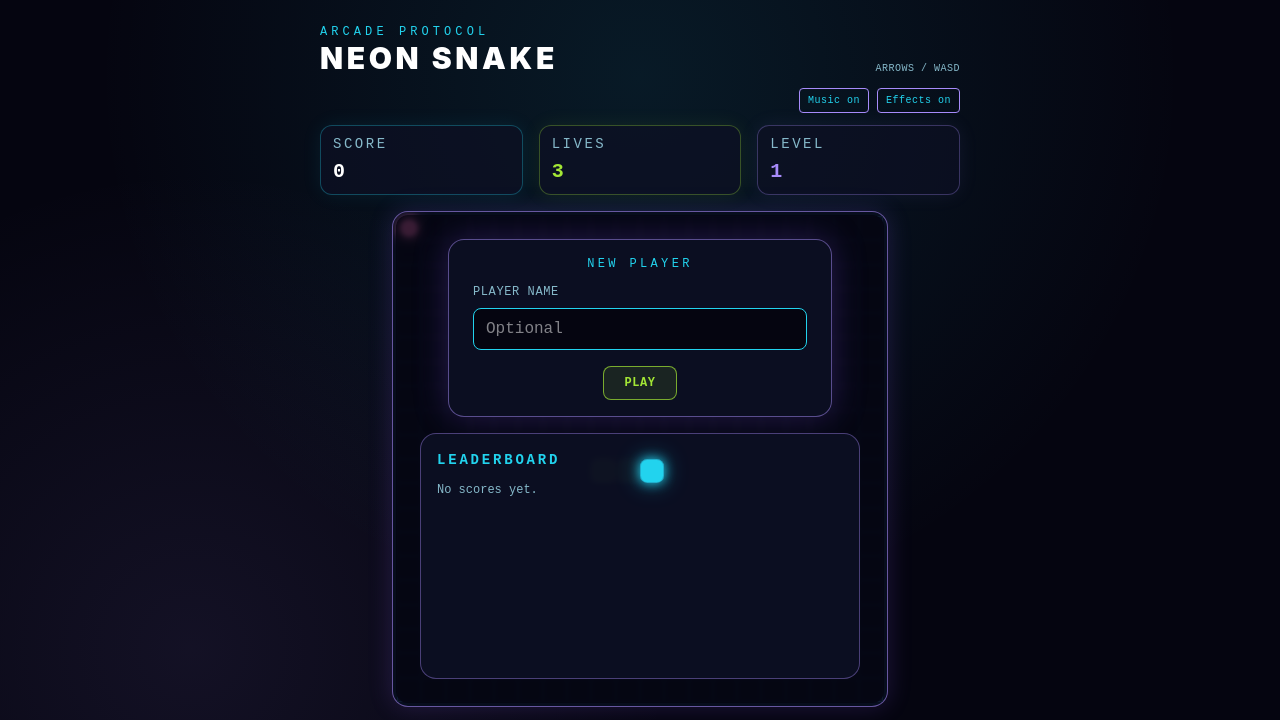
Test: Game › render › renders the leaderboard in the board overlay before play
Expected: the text "No scores yet." is shown, 437,483 -> 538,497
Click the button "Play": (640, 383) 603,366 -> 677,400
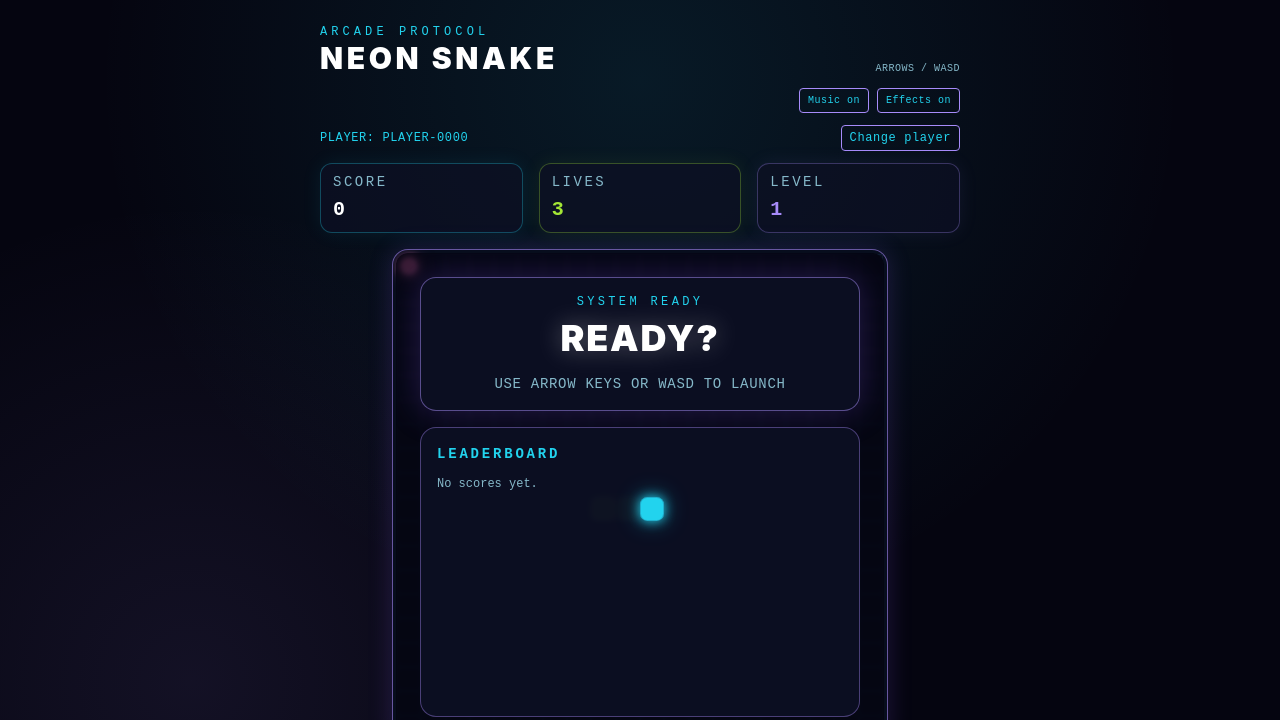
Expected: the heading "Ready?" is shown, 560,316 -> 720,360
Press ArrowRight
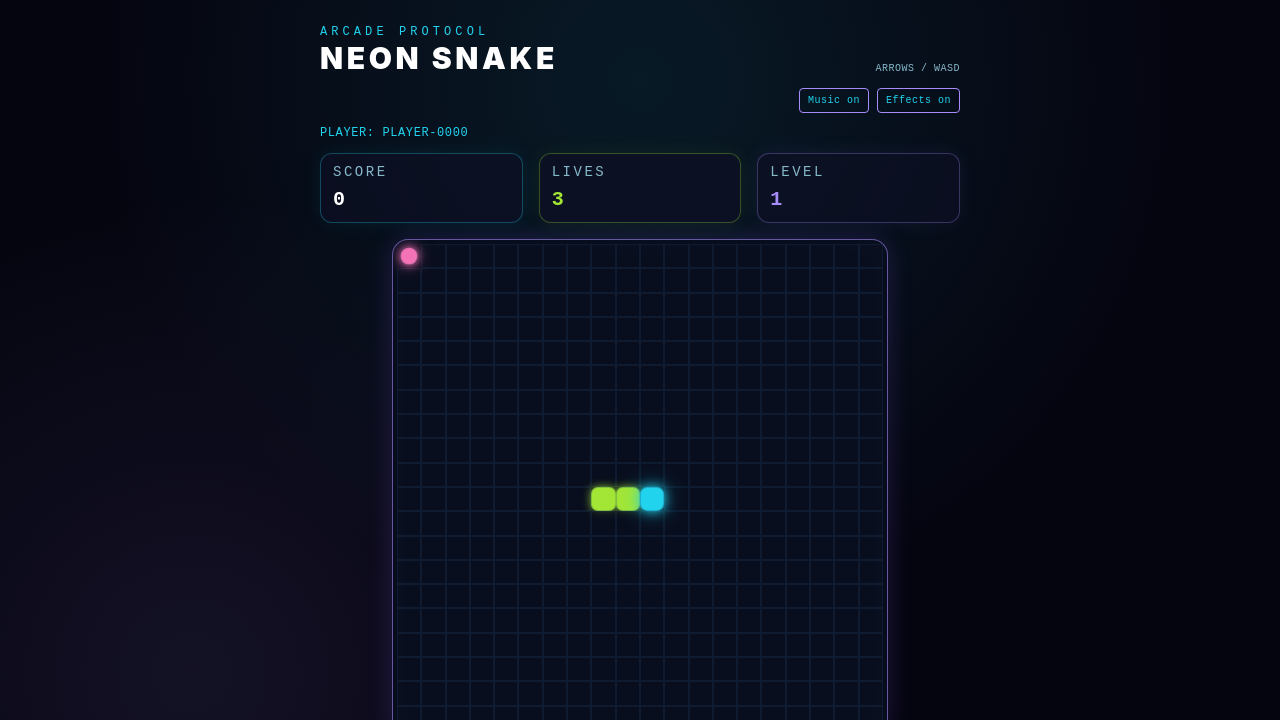
Expected: the heading "Leaderboard" is gone
